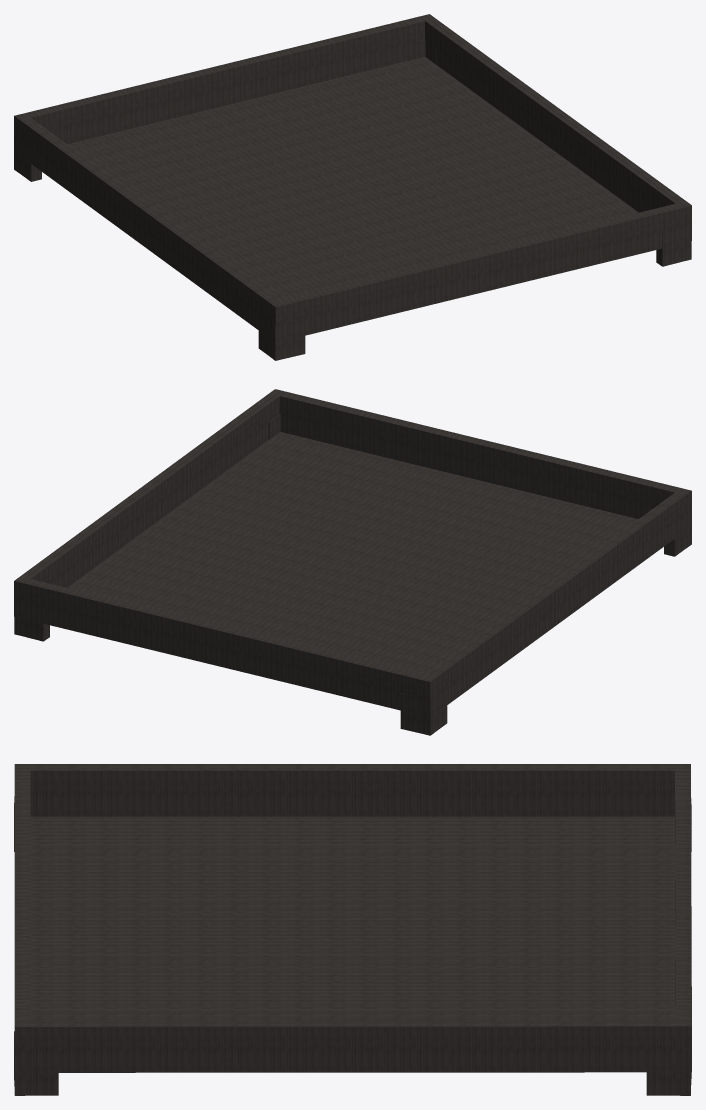
The model's file is cama.dae.
The picture shows the model from 3 angles, top to bottom: view 1: azimuth 30°, elevation 25°; view 2: azimuth 150°, elevation 25°; view 3: azimuth 270°, elevation 25°; orthographic projection. The views are drawn at different scales.
Parts seen in each view (by area): view 1: node; view 2: node; view 3: node.
Boxes of the visible parts, bbox=[...] form: node: bbox=[14, 14, 691, 360]; node: bbox=[14, 389, 691, 735]; node: bbox=[14, 764, 691, 1095].
Size of the model in its own units: 2253 by 277 by 2454.
Materials: 1 (1 with a texture image).
